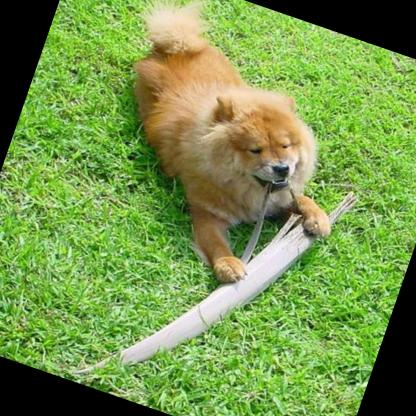chow: (61, 0, 390, 313)
